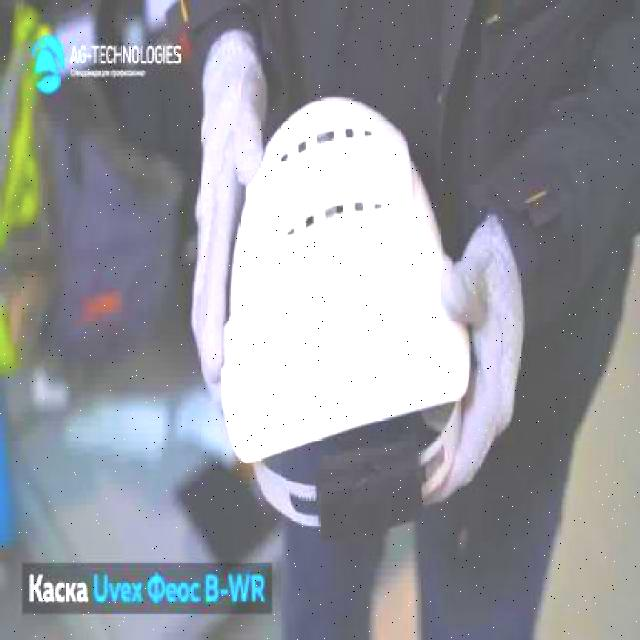Gloves: (190, 26, 270, 414), (434, 209, 524, 494)
Helmet: (219, 94, 472, 468)
